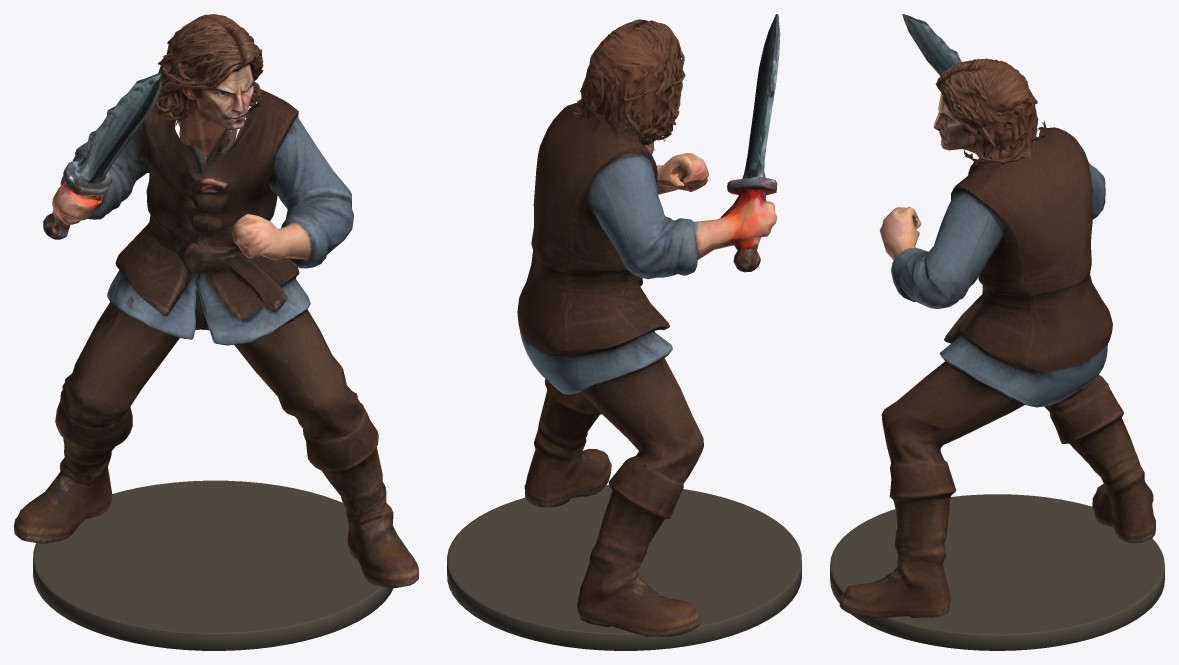
The model's file is human-bandit-longhair.glb.
3 views of the same model, side by side, from view 1: azimuth 30°, elevation 25°; view 2: azimuth 150°, elevation 25°; view 3: azimuth 270°, elevation 25° (orthographic). The views are drawn at different scales.
Parts seen in each view (by area): view 1: human-bandit-longhair_body, human-bandit-longhair_round_base, human-bandit-longhair_refined_head, human-bandit-longhair_neck_join; view 2: human-bandit-longhair_body, human-bandit-longhair_round_base, human-bandit-longhair_refined_head; view 3: human-bandit-longhair_body, human-bandit-longhair_round_base, human-bandit-longhair_refined_head.
Boxes of the visible parts, left/top/right/bottom form: human-bandit-longhair_body: left=14, top=73, right=418, bottom=587; human-bandit-longhair_round_base: left=33, top=480, right=393, bottom=650; human-bandit-longhair_refined_head: left=155, top=14, right=263, bottom=130; human-bandit-longhair_neck_join: left=179, top=112, right=230, bottom=157; human-bandit-longhair_body: left=517, top=14, right=780, bottom=636; human-bandit-longhair_round_base: left=447, top=485, right=801, bottom=650; human-bandit-longhair_refined_head: left=573, top=19, right=686, bottom=141; human-bandit-longhair_body: left=839, top=14, right=1155, bottom=618; human-bandit-longhair_round_base: left=830, top=494, right=1164, bottom=650; human-bandit-longhair_refined_head: left=933, top=58, right=1038, bottom=164.
Bounding box in the file's own units: 0.9953 × 1.71 × 0.9953.
4 materials, 3 textured.
